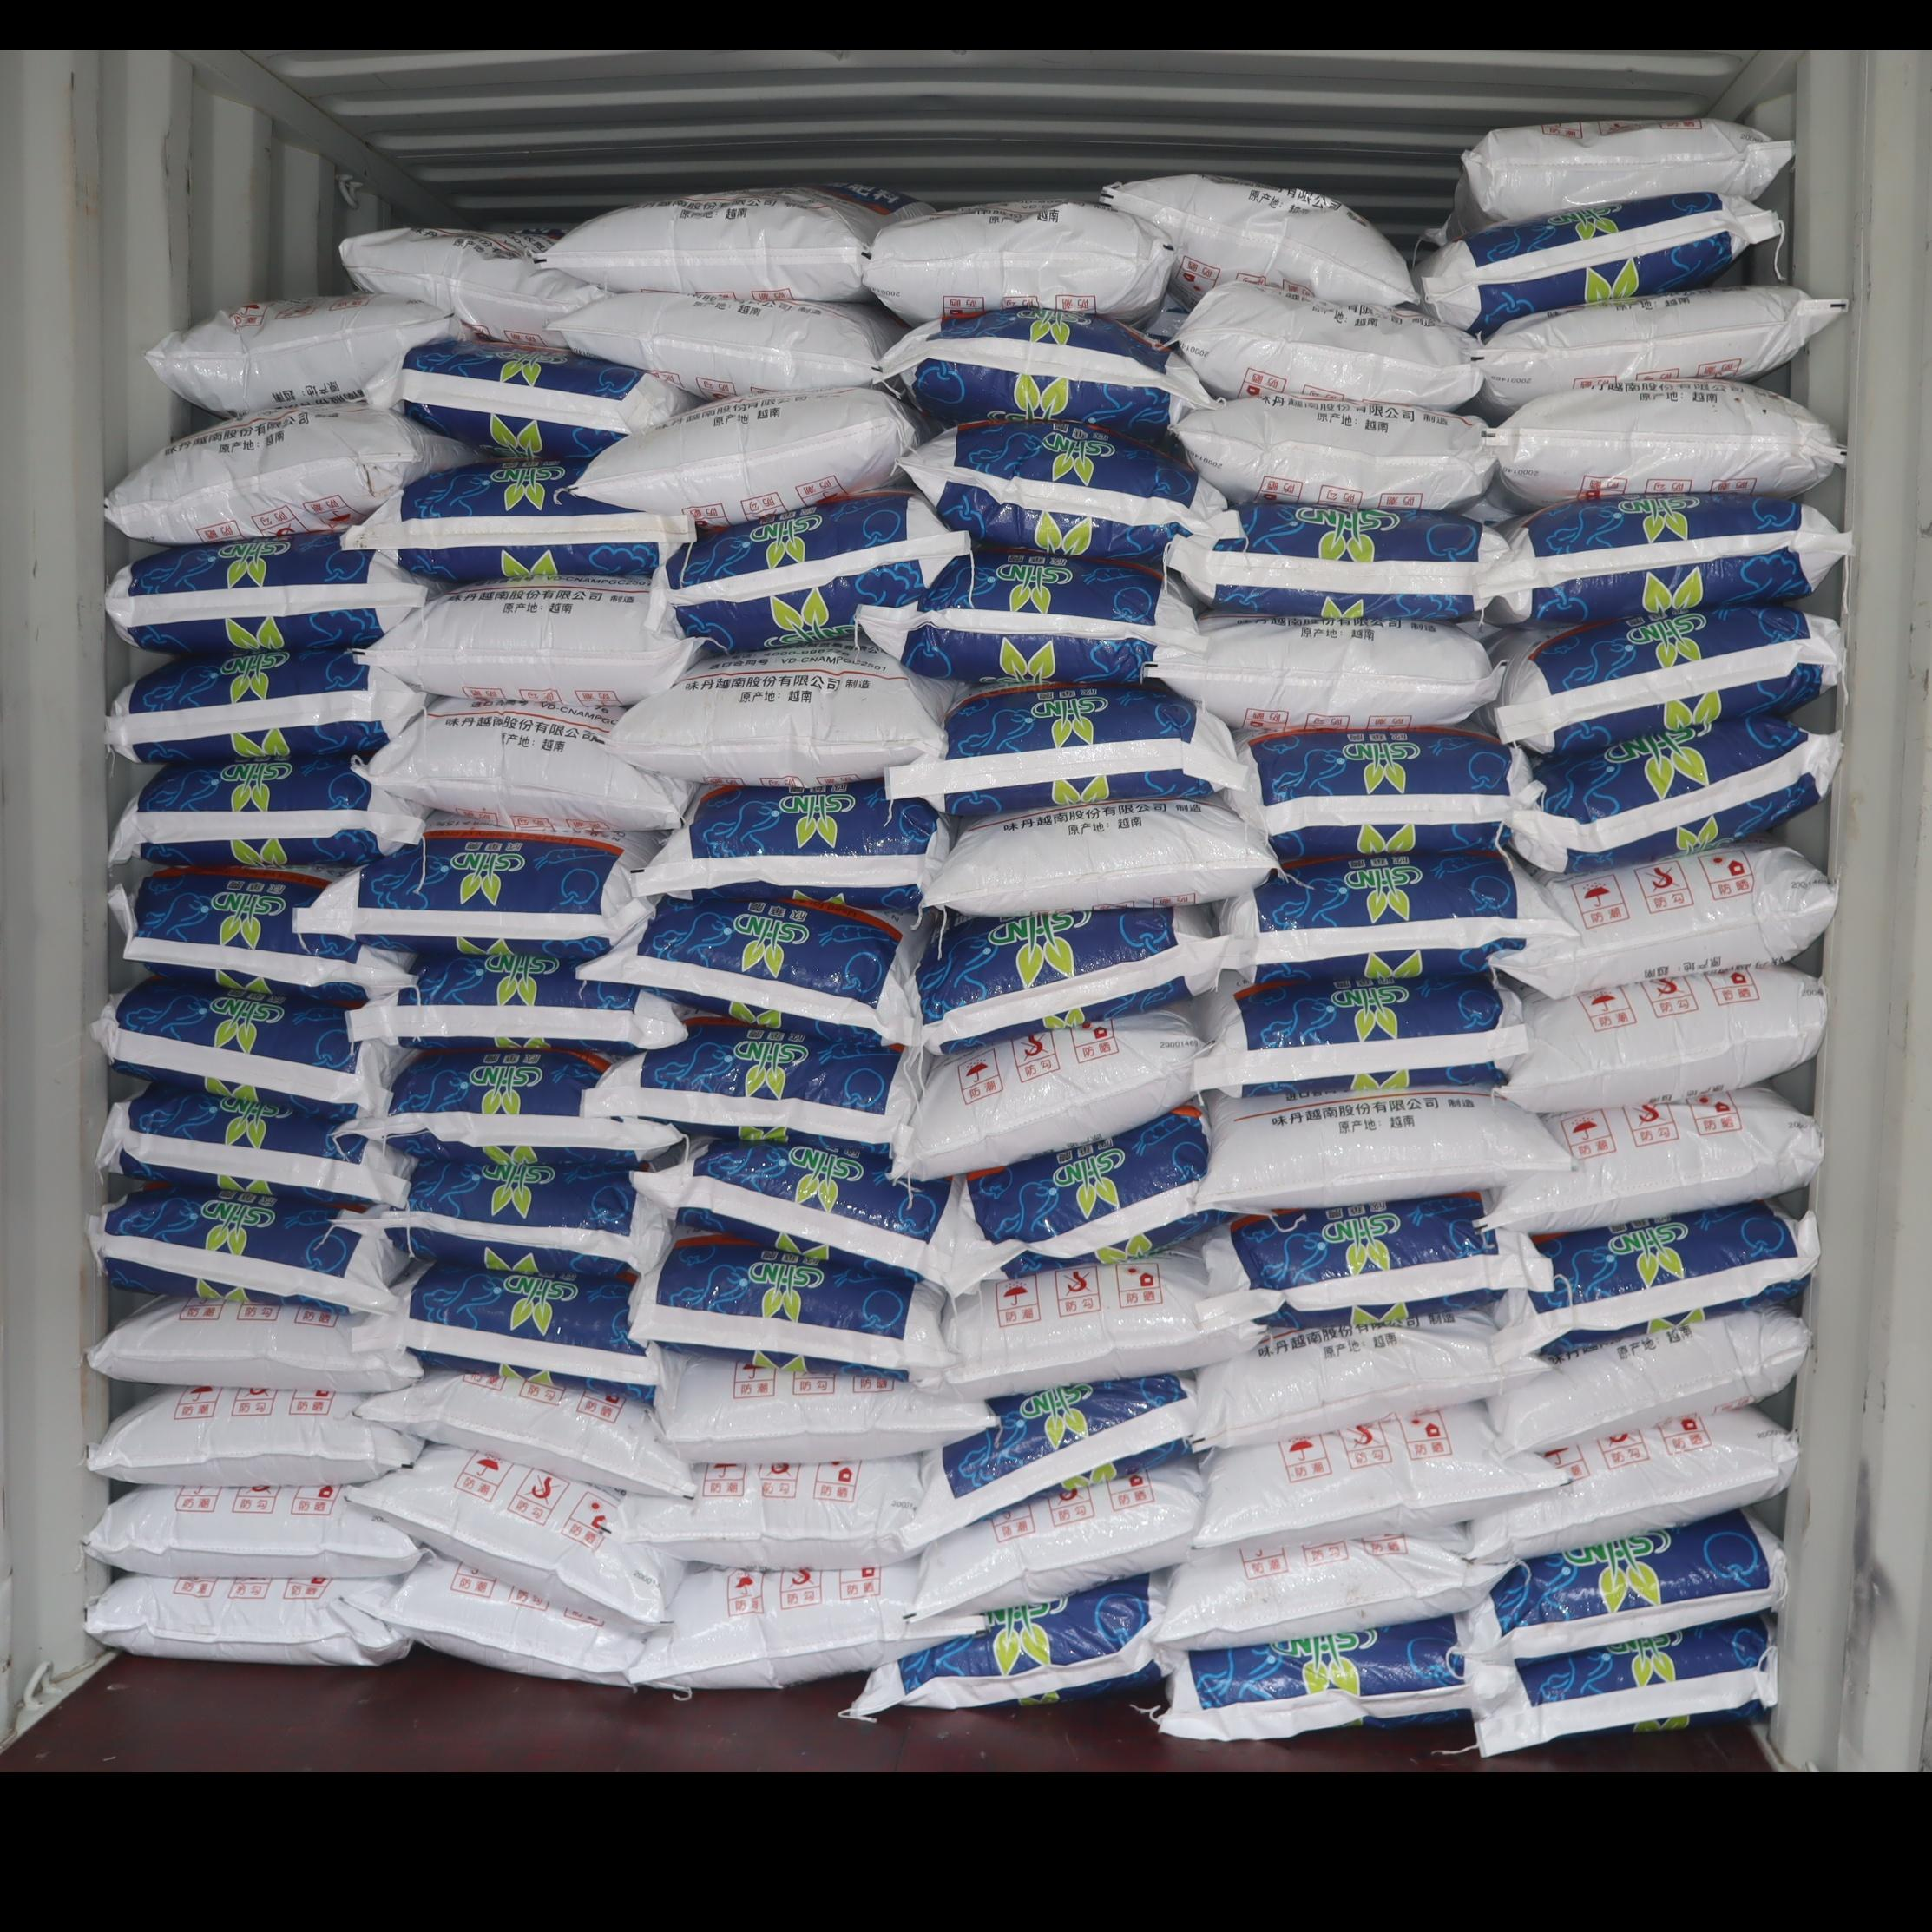sack: (357, 1445, 685, 1629), (934, 1106, 1231, 1292), (568, 386, 927, 533), (1419, 191, 1782, 336), (1196, 1405, 1568, 1546), (899, 1008, 1201, 1180), (911, 1249, 1260, 1398), (104, 403, 469, 545), (901, 1375, 1194, 1550), (651, 490, 970, 651), (1493, 607, 1842, 754), (297, 817, 648, 962), (1497, 1201, 1819, 1359), (1499, 846, 1838, 994), (1516, 715, 1840, 870), (584, 899, 922, 1046), (1484, 1086, 1821, 1233), (1463, 1509, 1785, 1661), (1472, 1408, 1798, 1559), (1200, 1194, 1550, 1332), (610, 644, 952, 786), (1479, 494, 1852, 623), (888, 683, 1244, 817), (1504, 966, 1828, 1113), (913, 1460, 1203, 1622), (1196, 1315, 1546, 1447), (1198, 1088, 1571, 1212), (1474, 287, 1847, 410), (628, 1560, 985, 1690), (632, 1235, 954, 1378), (92, 977, 402, 1125), (633, 1136, 950, 1281), (906, 419, 1226, 563), (541, 184, 932, 301), (1219, 851, 1566, 982), (916, 906, 1223, 1053), (1426, 120, 1794, 242), (1491, 1311, 1808, 1451), (1488, 380, 1844, 504), (867, 548, 1194, 683), (587, 1017, 918, 1150), (874, 306, 1210, 435), (856, 1573, 1164, 1713), (925, 794, 1276, 916), (364, 577, 695, 706), (345, 460, 694, 582), (1470, 1615, 1778, 1753), (357, 1371, 694, 1497), (111, 863, 412, 1003), (370, 699, 690, 830), (1155, 1530, 1506, 1649), (90, 1185, 403, 1315), (1196, 975, 1527, 1097), (1104, 175, 1412, 306), (1152, 616, 1502, 731), (1238, 727, 1534, 863), (644, 778, 948, 908), (352, 1553, 644, 1688), (104, 534, 428, 655), (368, 340, 692, 460), (863, 200, 1173, 326), (145, 295, 464, 418), (1159, 1615, 1472, 1739), (1169, 504, 1506, 619), (373, 1263, 656, 1399), (1175, 283, 1481, 409), (97, 1085, 414, 1203), (354, 1049, 678, 1164), (561, 292, 901, 400), (104, 649, 423, 763), (349, 952, 686, 1058), (655, 1357, 993, 1463), (1178, 396, 1495, 510), (110, 757, 423, 869), (379, 1159, 671, 1277), (617, 1456, 920, 1568), (90, 1384, 419, 1484), (340, 228, 603, 349), (88, 1299, 421, 1392), (87, 1484, 418, 1576), (87, 1575, 412, 1665)
